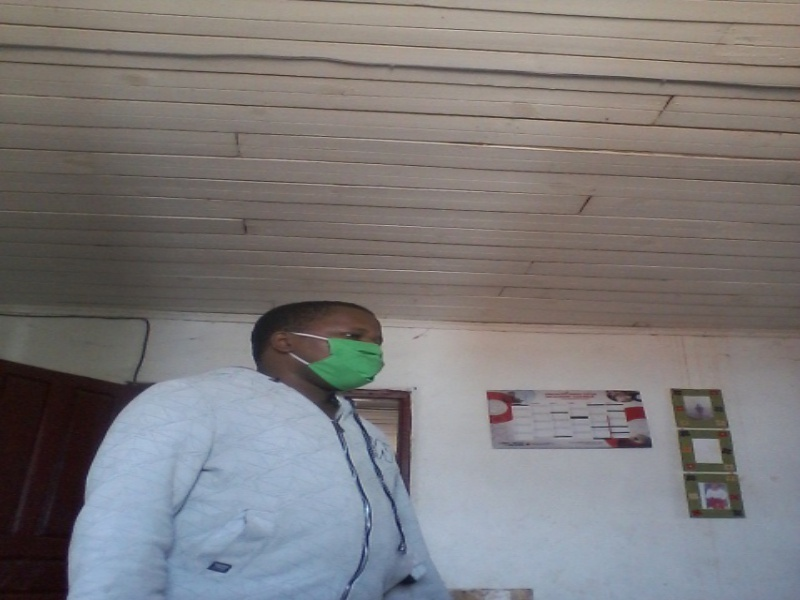ManaoArotava: (268, 293, 395, 404)
